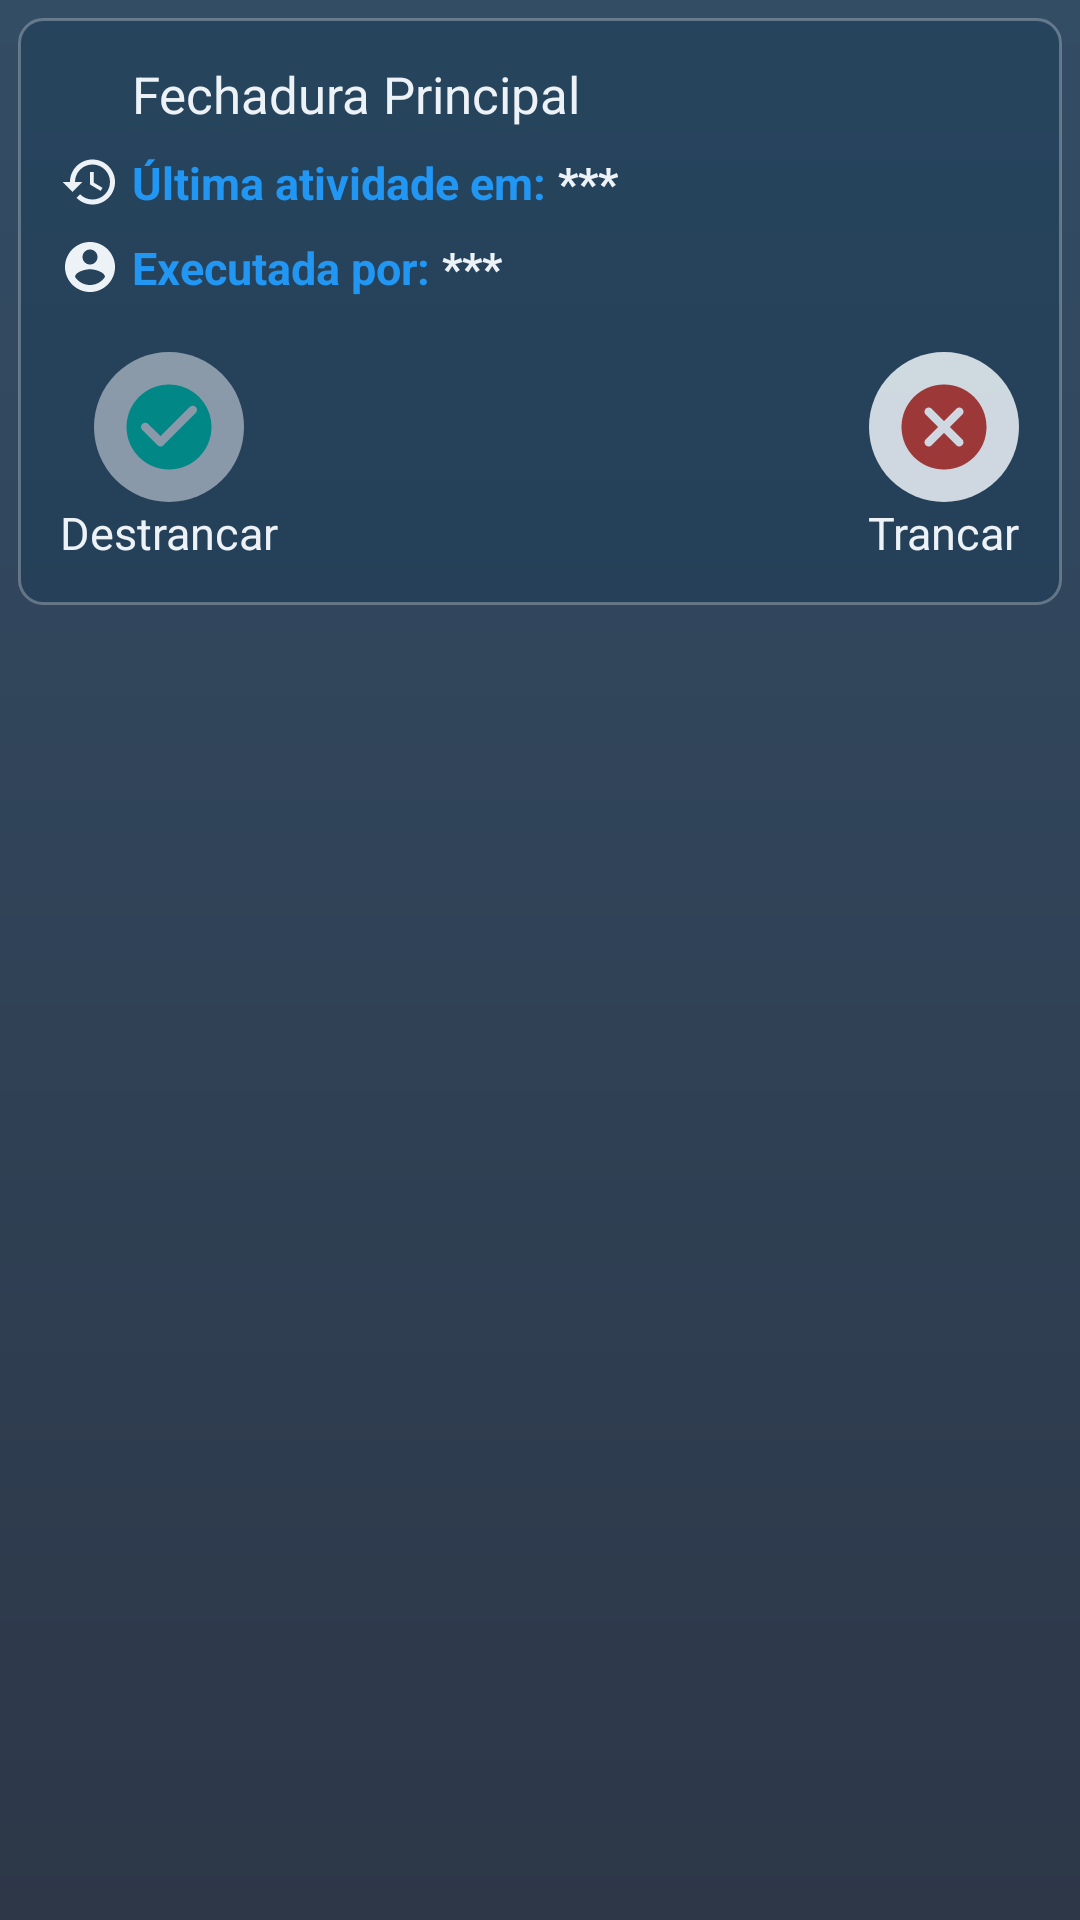

Screen size 1080w x 1920h. Icon name, then its box in pixels as (x1, y1, x2, y2):
account circle: (65, 242, 115, 292)
cancel: (869, 352, 1019, 502)
check circle: (94, 352, 244, 502)
history: (63, 159, 115, 205)
